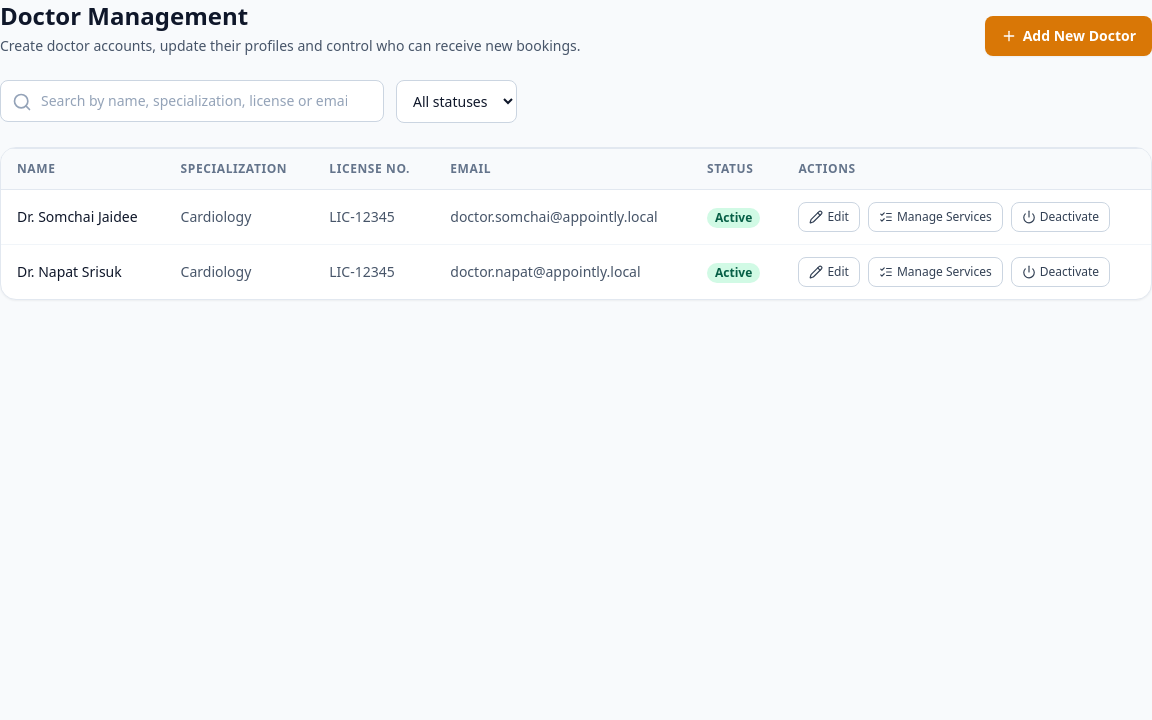
Test case: Admin Doctor-Service Assignment (/admin/doctors → Manage Services) › 409 DUPLICATE_ASSIGNMENT shows the error and re-syncs the row to Assigned (AC-F005-02)
Expected: the table is shown, [1,148,1151,299]
Step 1. Click the button with aria-label "Manage services for Dr. Somchai Jaidee" → coordinates (935, 217), box [868,202,1003,232]
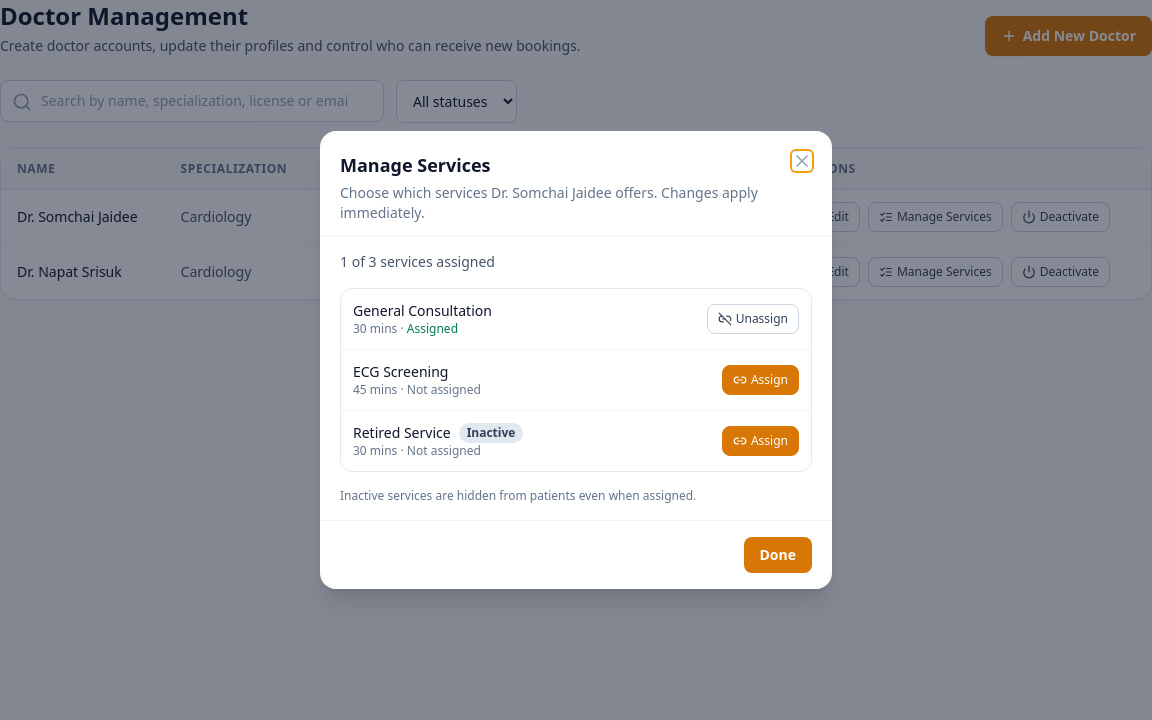
Now the list named "Clinic services" is shown, box [340,288,812,472]
Step 2. Click the button with aria-label "Assign ECG Screening" → coordinates (760, 380), box [722,365,799,395]
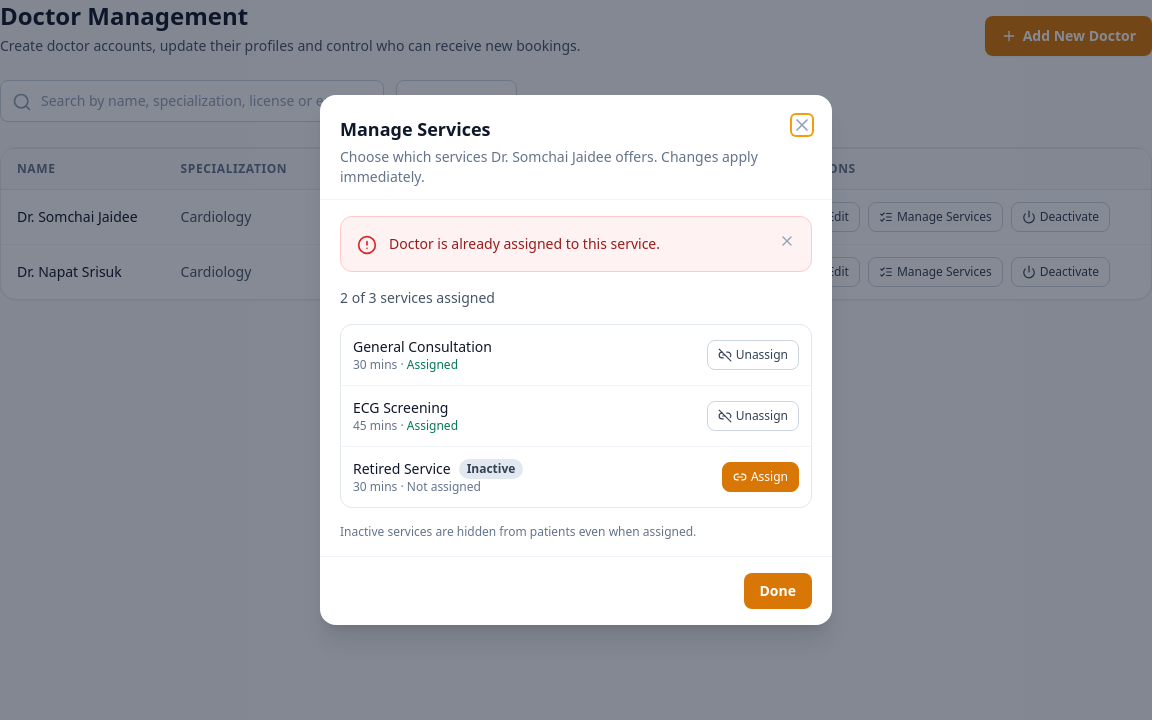
Now the message shows "already assigned", box [389,234,660,253]
Now the button with aria-label "Unassign ECG Screening" is shown, box [707,401,799,431]
